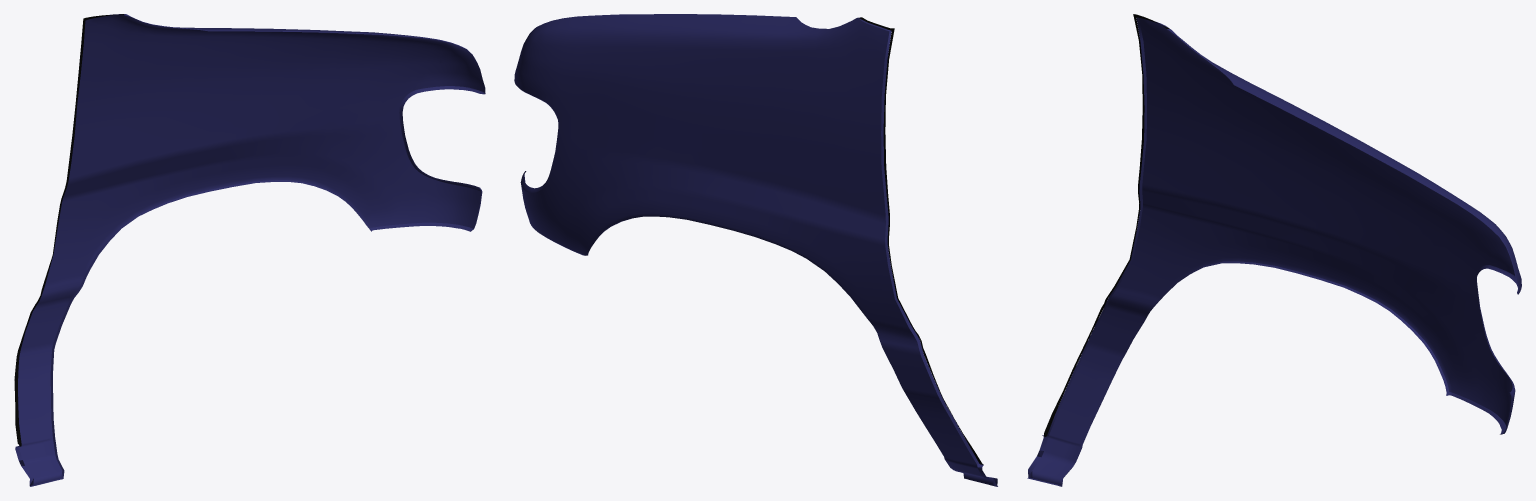
3 renders of one model, left to right at view 1: azimuth 30°, elevation 25°; view 2: azimuth 150°, elevation 25°; view 3: azimuth 330°, elevation 25°, orthographic. The views are drawn at different scales.
Visible parts, largest first — view 1: P615_5A_121B_L_1_DaS_P615_5A_121B_L, P615_5A_121B_L_1_DaS_P615_5A_121B_L_E, P615_5A_121B_L_P615_5A_121B_L_2_D; view 2: P615_5A_121B_L_1_DaS_P615_5A_121B_L, P615_5A_121B_L_1_DaS_P615_5A_121B_L_E, P615_5A_121B_L_P615_5A_121B_L_2_D; view 3: P615_5A_121B_L_1_DaS_P615_5A_121B_L, P615_5A_121B_L_1_DaS_P615_5A_121B_L_E, P615_5A_121B_L_P615_5A_121B_L_2_D.
Boxes of the visible parts, x1,y1,x2,y2 form: P615_5A_121B_L_1_DaS_P615_5A_121B_L: (15, 15, 485, 485); P615_5A_121B_L_1_DaS_P615_5A_121B_L_E: (16, 14, 485, 486); P615_5A_121B_L_P615_5A_121B_L_2_D: (14, 14, 124, 446); P615_5A_121B_L_1_DaS_P615_5A_121B_L: (514, 14, 997, 486); P615_5A_121B_L_1_DaS_P615_5A_121B_L_E: (520, 17, 997, 486); P615_5A_121B_L_P615_5A_121B_L_2_D: (859, 17, 983, 464); P615_5A_121B_L_1_DaS_P615_5A_121B_L: (1028, 18, 1521, 485); P615_5A_121B_L_1_DaS_P615_5A_121B_L_E: (1027, 17, 1518, 486); P615_5A_121B_L_P615_5A_121B_L_2_D: (1044, 14, 1169, 436).
Size of the model in its own units: 119 by 108 by 17.85.
